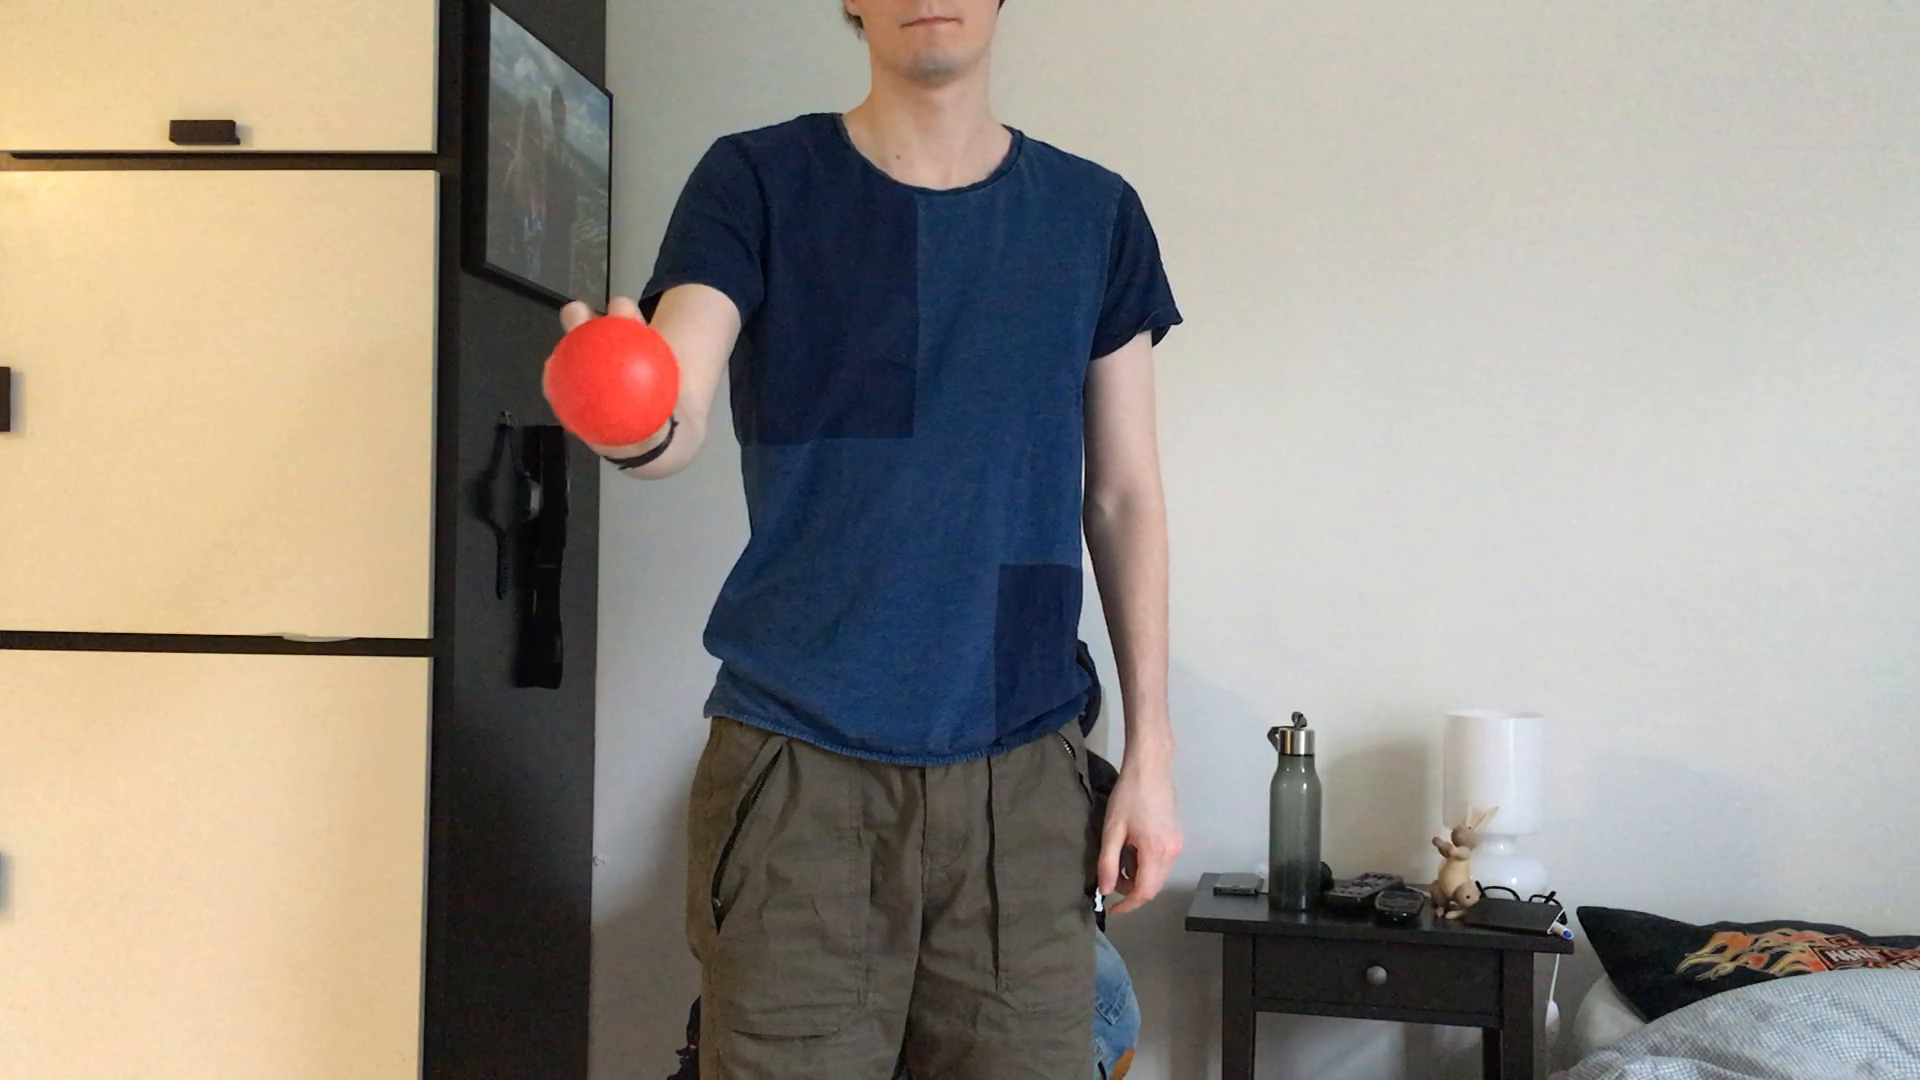Ball: (545, 313, 676, 460)
